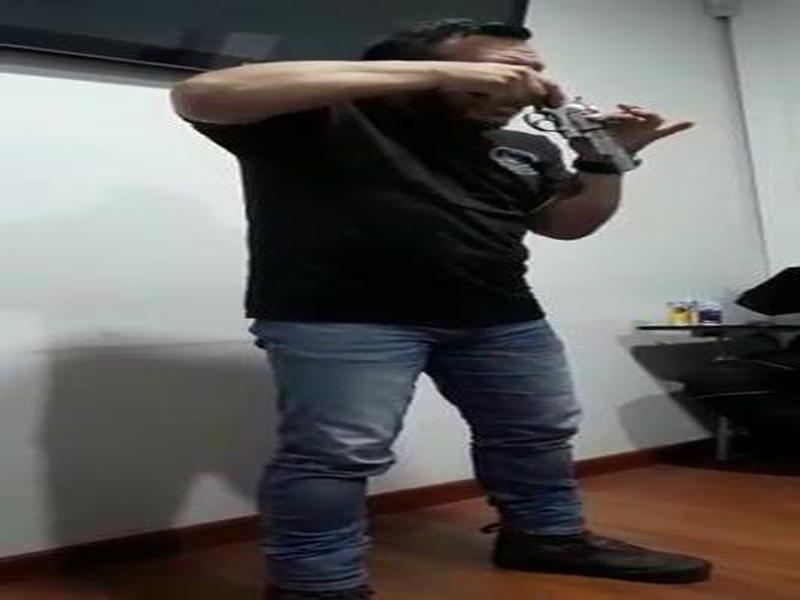Revolver: (493, 75, 673, 194)
